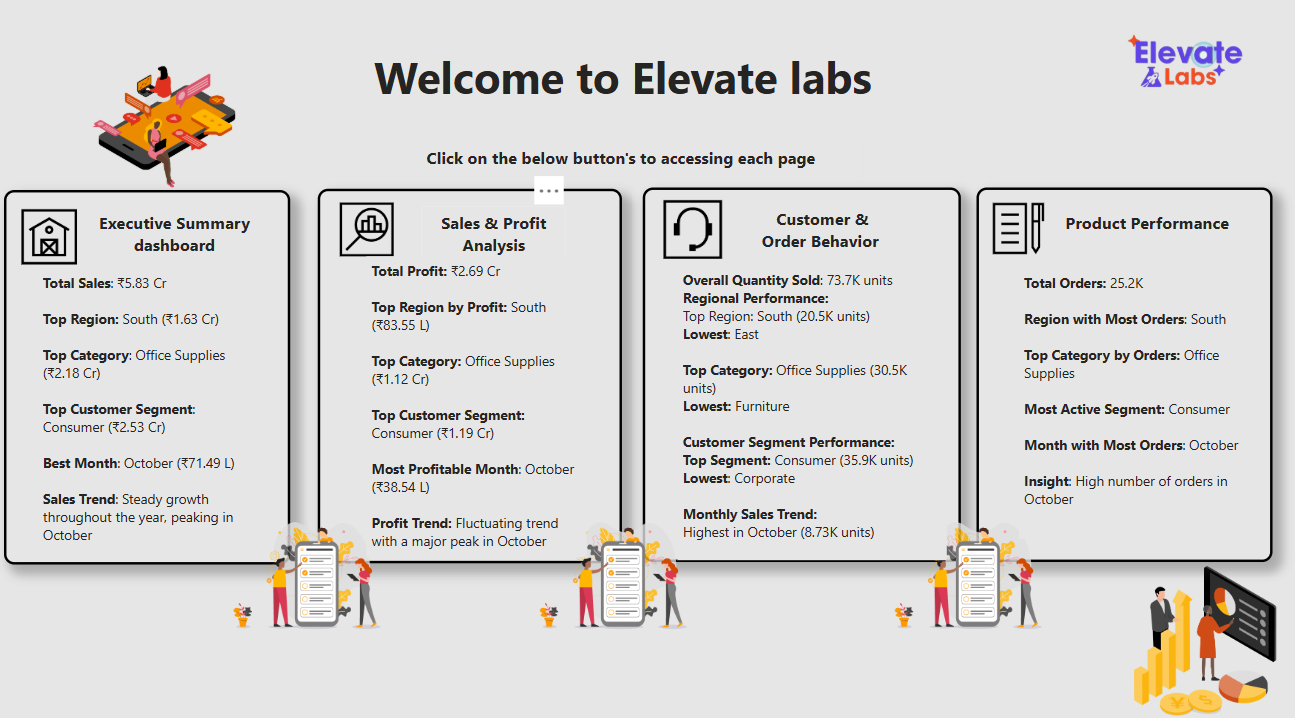

The page's visual inventory and layout, read from the dashboard file:
{"tool":"powerbi","page":{"name":"Welcome","canvas":[1280,720],"ordinal":0},"visuals":[{"type":"textbox","box":[371.7,55,514.8,83.2],"z":0},{"type":"image","box":[1099.1,564,181.1,156.4],"z":1000},{"type":"image","box":[39.8,0,281.3,260.7],"z":2000},{"type":"image","box":[1060.7,0,219.6,130.4],"z":3000},{"type":"textbox","box":[422.6,152.3,432.2,41.2],"z":4000},{"type":"textbox","box":[15.1,200.3,279.9,366.4],"z":6000},{"type":"textbox","box":[321.1,199,297.8,366.4],"z":7000},{"type":"textbox","box":[639.5,197.6,311.5,366.4],"z":8000},{"type":"textbox","box":[966,197.6,289.5,366.4],"z":9000},{"type":"image","box":[524.2,513.2,190.7,129],"z":10000},{"type":"image","box":[871.4,513.2,190.7,129],"z":11000},{"type":"image","box":[27.4,205.8,64.5,81],"z":11001},{"type":"image","box":[337.5,207.9,63.6,62.4],"z":11002},{"type":"image","box":[649.1,205.8,78.2,67.2],"z":11003},{"type":"image","box":[977,201.7,60.4,72.7],"z":11004},{"type":"textbox","box":[97.4,216.8,167.4,60.4],"z":11005},{"type":"textbox","box":[422.6,216.8,141.3,61.7],"z":11006},{"type":"textbox","box":[745.1,212.7,141.3,53.5],"z":11007},{"type":"textbox","box":[1048.4,216.8,186.6,49.4],"z":11008},{"type":"image","box":[225,513.2,190.7,129],"z":11009},{"type":"textbox","box":[47.7,277.6,215.2,277.6],"z":11010},{"type":"textbox","box":[369.3,265.4,215.2,294.7],"z":11011},{"type":"textbox","box":[673.8,273.9,262.9,288.6],"z":11012},{"type":"textbox","box":[1007.6,277.6,229.9,264.1],"z":11013}]}

Visuals, with their boxes in screenshot pixels (x1, y1, x2, y2), scaled from the page's 1280x720 canvas onto the 1295x718 screenshot:
textbox: left=376, top=55, right=897, bottom=138
image: left=1112, top=562, right=1294, bottom=717
image: left=40, top=0, right=325, bottom=260
image: left=1073, top=0, right=1294, bottom=130
textbox: left=428, top=152, right=865, bottom=193
textbox: left=15, top=200, right=298, bottom=565
textbox: left=325, top=198, right=626, bottom=564
textbox: left=647, top=197, right=962, bottom=562
textbox: left=977, top=197, right=1270, bottom=562
image: left=530, top=512, right=723, bottom=640
image: left=882, top=512, right=1075, bottom=640
image: left=28, top=205, right=93, bottom=286
image: left=341, top=207, right=406, bottom=270
image: left=657, top=205, right=736, bottom=272
image: left=988, top=201, right=1050, bottom=274
textbox: left=99, top=216, right=268, bottom=276
textbox: left=428, top=216, right=571, bottom=278
textbox: left=754, top=212, right=897, bottom=265
textbox: left=1061, top=216, right=1249, bottom=265
image: left=228, top=512, right=421, bottom=640
textbox: left=48, top=277, right=266, bottom=554
textbox: left=374, top=265, right=591, bottom=559
textbox: left=682, top=273, right=948, bottom=561
textbox: left=1019, top=277, right=1252, bottom=540
